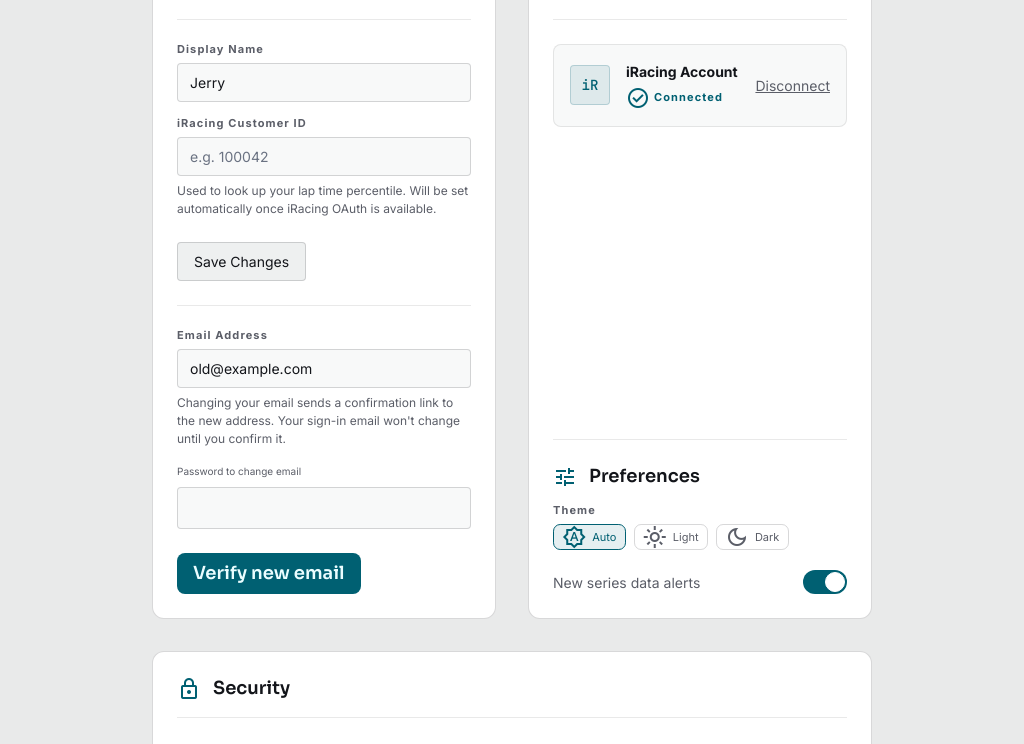
Scenario: SettingsPage › requests an email change and shows a pending notice
(page scrolled)
Step 1. Replace the text in the field labelled "Email Address" with "new@example.com" → [324, 368], box [177,349,471,388]
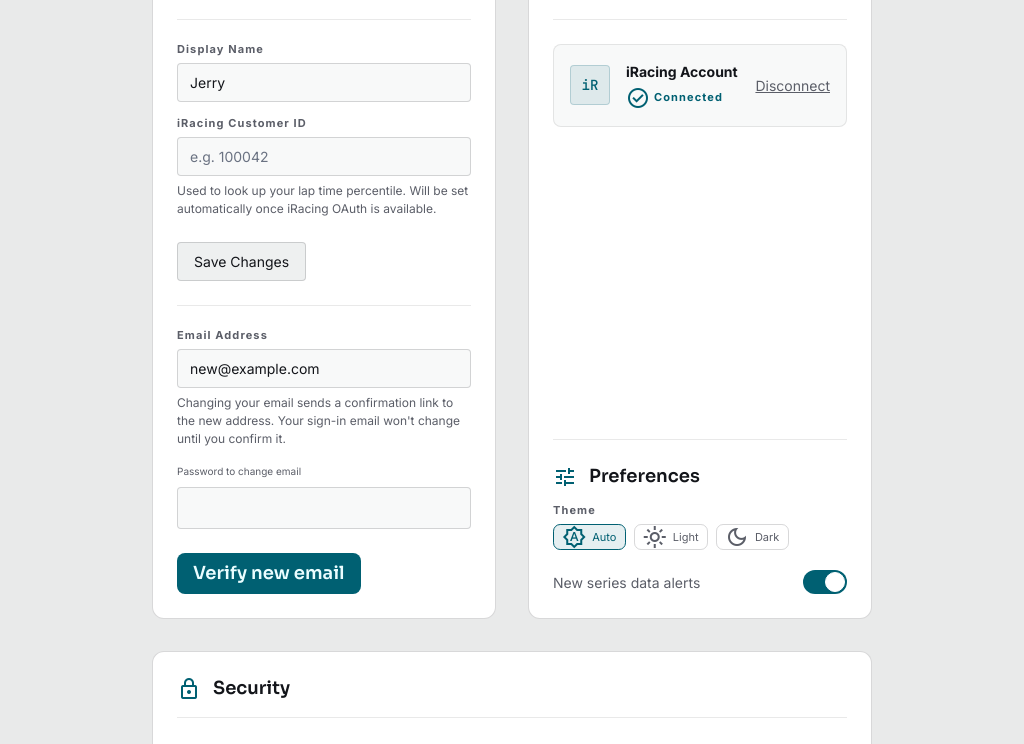
Step 2. Type "current-secret" into the password field labelled "Password to change email" → [324, 508], box [177,487,471,529]
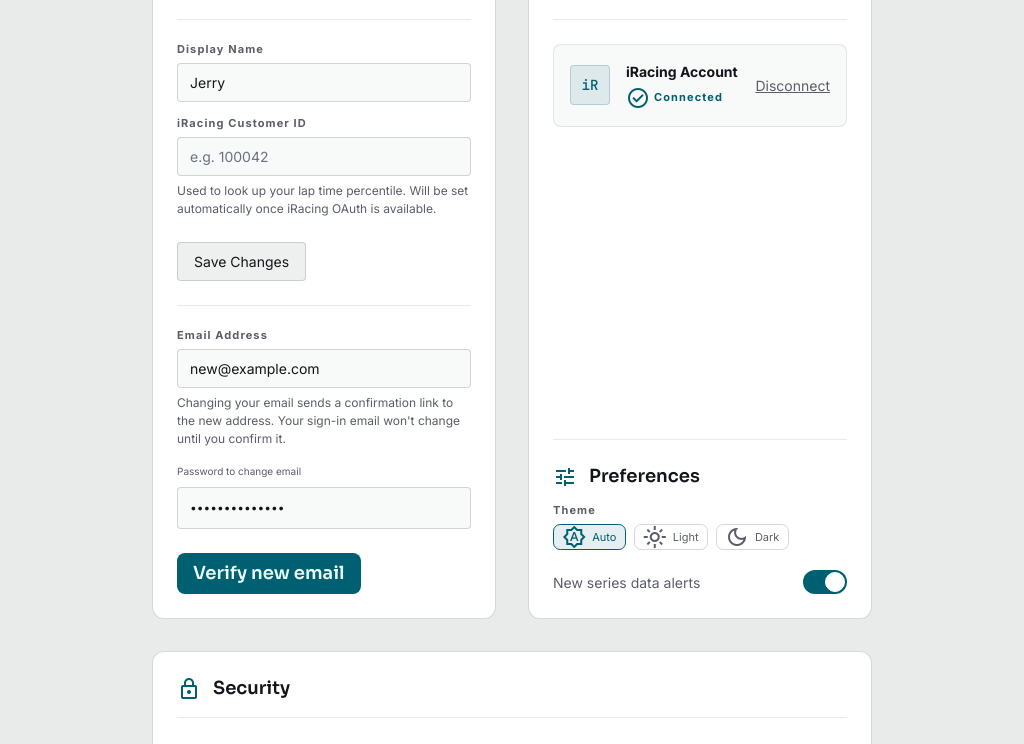
Step 3. Click the button "Verify new email" → [269, 574], box [177,553,360,594]
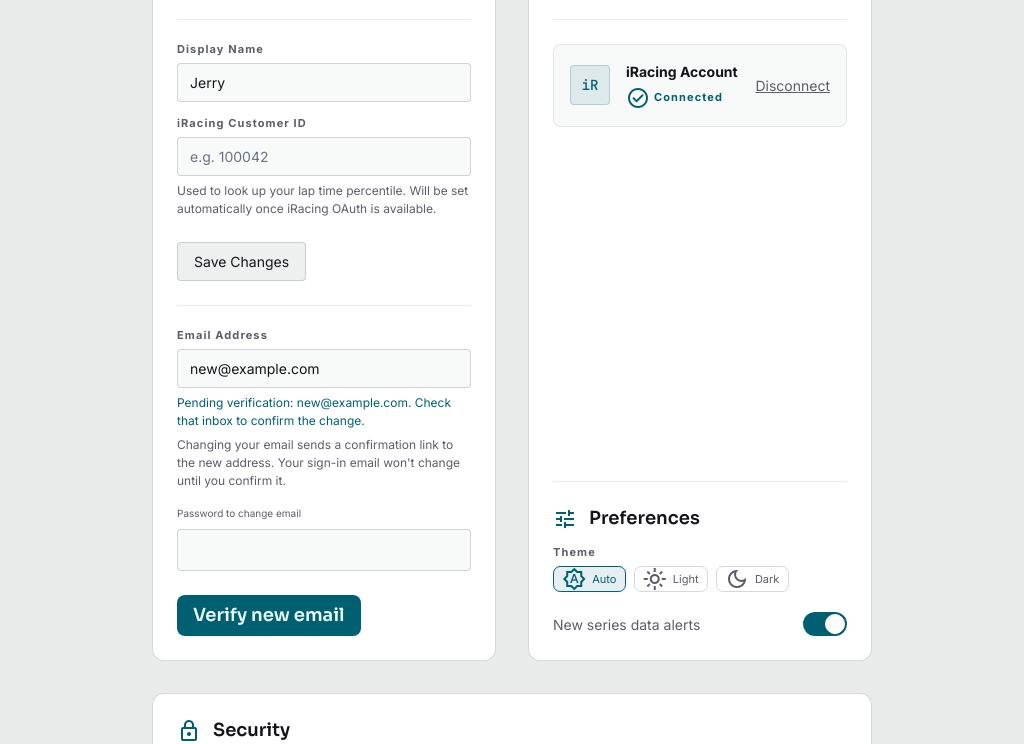
expect the text "Pending verification" is shown: met, box [177,395,297,410]
